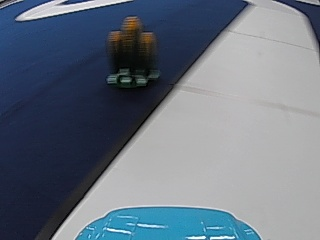corn: (105, 12, 158, 87)
